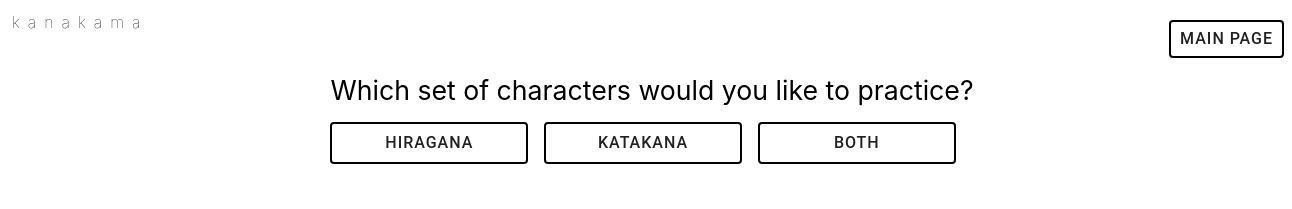
Test: PracticeModePage › displays practice mode selection buttons after a character set is selected
The width and height of the screenshot is (1292, 209).
Click the button "Hiragana" at [429, 143], box left=330, top=122, right=528, bottom=164
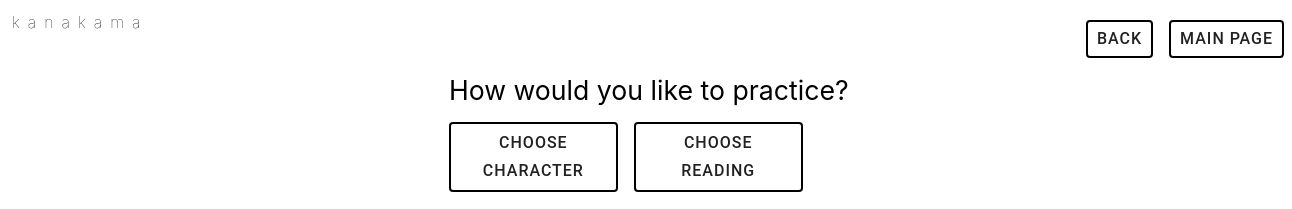
Expected: the text "How would you like to practice?" is shown, left=441, top=66, right=863, bottom=114
Expected: the text "Choose Reading" is shown, left=681, top=133, right=755, bottom=180
Expected: the text "Choose Character" is shown, left=483, top=133, right=584, bottom=180
